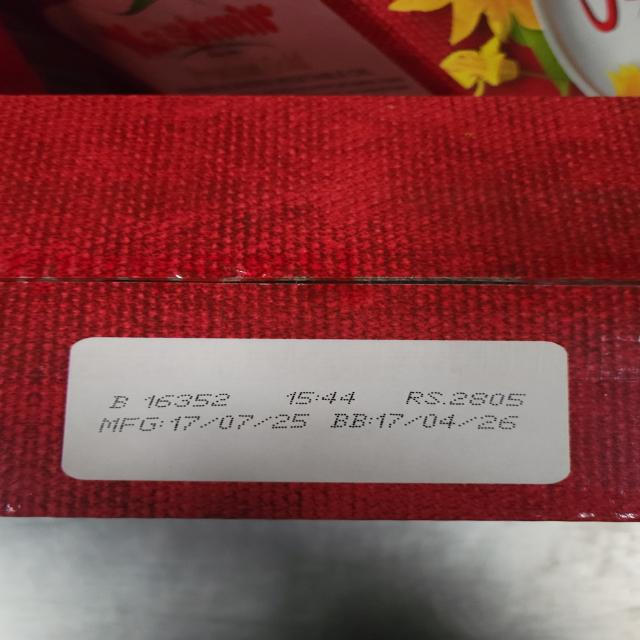BB: (330, 412, 522, 430)
Batch: (108, 394, 236, 408)
MFG: (100, 412, 316, 432)
RS: (404, 391, 528, 407)
TimeStamp: (283, 391, 358, 405)
